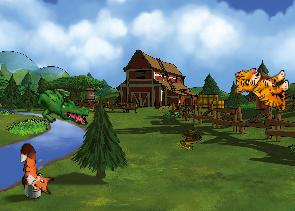crocodile: (29, 87, 90, 126)
fox: (19, 143, 54, 195)
tiger: (234, 65, 291, 113)
